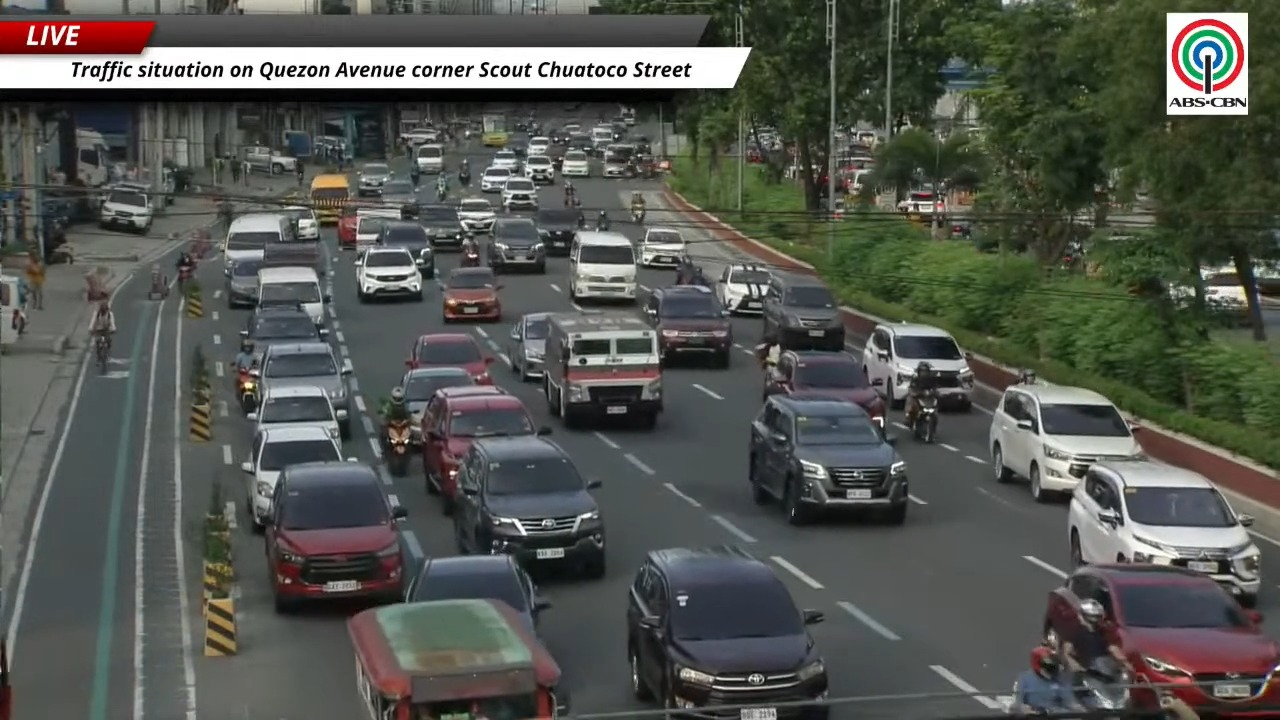bus: (309, 173, 350, 224), (481, 112, 509, 149)
car: (1043, 563, 1279, 716), (626, 546, 827, 719), (1068, 462, 1260, 606), (452, 435, 604, 578), (265, 461, 406, 612), (748, 396, 908, 524), (988, 383, 1145, 502), (420, 385, 535, 514), (405, 555, 550, 629), (241, 425, 342, 529), (862, 323, 974, 408), (253, 342, 352, 438), (763, 351, 886, 428), (643, 285, 732, 367), (762, 274, 845, 350), (399, 367, 475, 435), (246, 386, 339, 438), (406, 333, 493, 384), (240, 306, 327, 355), (354, 246, 422, 302), (375, 220, 434, 276), (441, 267, 501, 322), (486, 218, 545, 273), (716, 263, 771, 314), (508, 312, 548, 380), (99, 187, 153, 234), (415, 204, 466, 249), (534, 208, 580, 256), (355, 208, 401, 249), (639, 227, 687, 266), (224, 259, 262, 307), (897, 187, 945, 217), (457, 198, 496, 234), (281, 206, 319, 240), (381, 178, 418, 212), (501, 177, 537, 211), (357, 163, 393, 196), (337, 202, 361, 249), (602, 145, 634, 177), (414, 143, 445, 174), (524, 154, 555, 183), (480, 166, 513, 193), (561, 149, 590, 177), (400, 127, 439, 146), (491, 149, 520, 174), (566, 132, 593, 155), (554, 122, 581, 144), (527, 136, 552, 158), (547, 145, 566, 173), (629, 135, 652, 155), (506, 140, 528, 157)
motorcycle: (1071, 656, 1130, 711), (1004, 677, 1085, 716), (910, 389, 939, 443), (385, 421, 410, 476), (236, 369, 257, 414), (94, 332, 110, 372), (178, 263, 196, 288), (460, 247, 479, 267), (631, 207, 645, 223), (458, 171, 471, 187), (596, 218, 609, 231), (436, 186, 446, 202), (577, 213, 586, 228)
truck: (544, 310, 663, 428), (262, 239, 325, 276), (75, 128, 109, 187), (241, 145, 296, 174)
